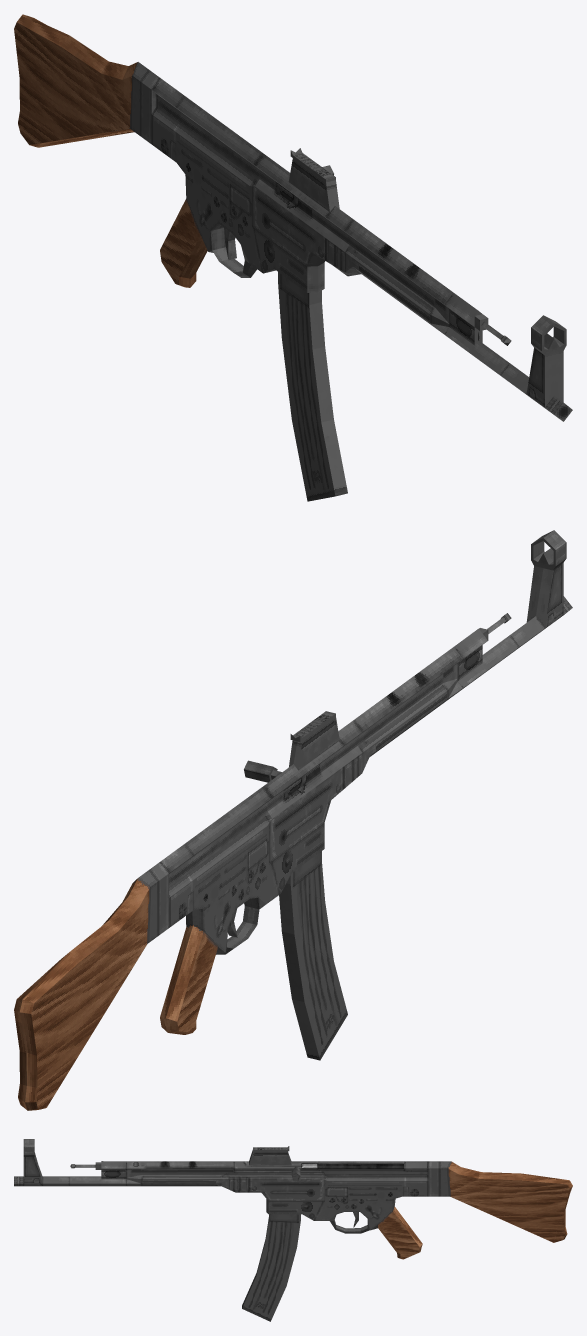
The model's file is Sturmgewehr STG 44.glb.
3 renders of one model, top to bottom at view 1: azimuth 30°, elevation 25°; view 2: azimuth 150°, elevation 25°; view 3: azimuth 270°, elevation 25°, orthographic. The views are drawn at different scales.
Visible parts, largest first — view 1: STG 44, magazine; view 2: STG 44, magazine; view 3: STG 44, magazine.
Part boxes in pixels (<box>): STG 44: <box>14,14,572,421</box>; magazine: <box>278,272,347,501</box>; STG 44: <box>14,530,572,1110</box>; magazine: <box>279,851,347,1060</box>; STG 44: <box>14,1139,572,1259</box>; magazine: <box>242,1214,300,1321</box>.
Size of the model in its own units: 0.0537 by 0.3405 by 0.9513.
Materials: 1 (1 with a texture image).
